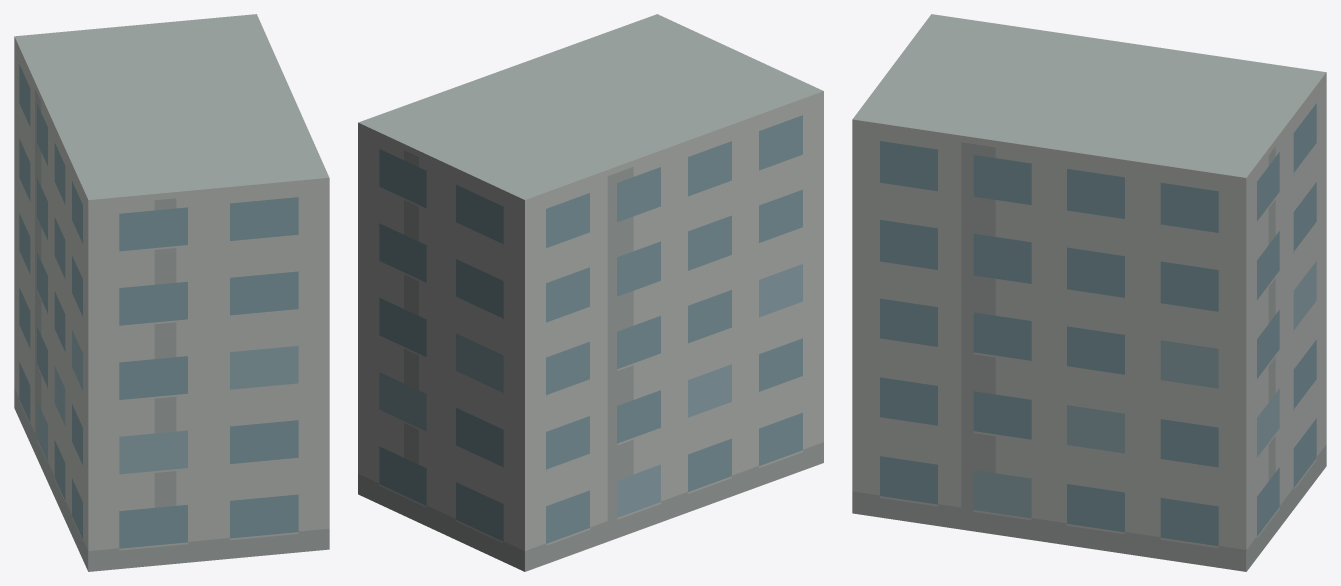
Rendered from survey-upis-32885144.glb.
The picture shows the model from 3 angles, left to right: view 1: azimuth 30°, elevation 25°; view 2: azimuth 150°, elevation 25°; view 3: azimuth 270°, elevation 25°; orthographic projection. The views are drawn at different scales.
Visible parts, largest first — view 1: survey-upis-32885144.tmp; view 2: survey-upis-32885144.tmp; view 3: survey-upis-32885144.tmp.
Boxes of the visible parts, box(x1,y1,x2,y2) form: survey-upis-32885144.tmp: box(14, 14, 329, 571); survey-upis-32885144.tmp: box(358, 14, 823, 571); survey-upis-32885144.tmp: box(852, 14, 1326, 571).
Bounding box in the file's own units: 12.85 × 14.39 × 15.71.
